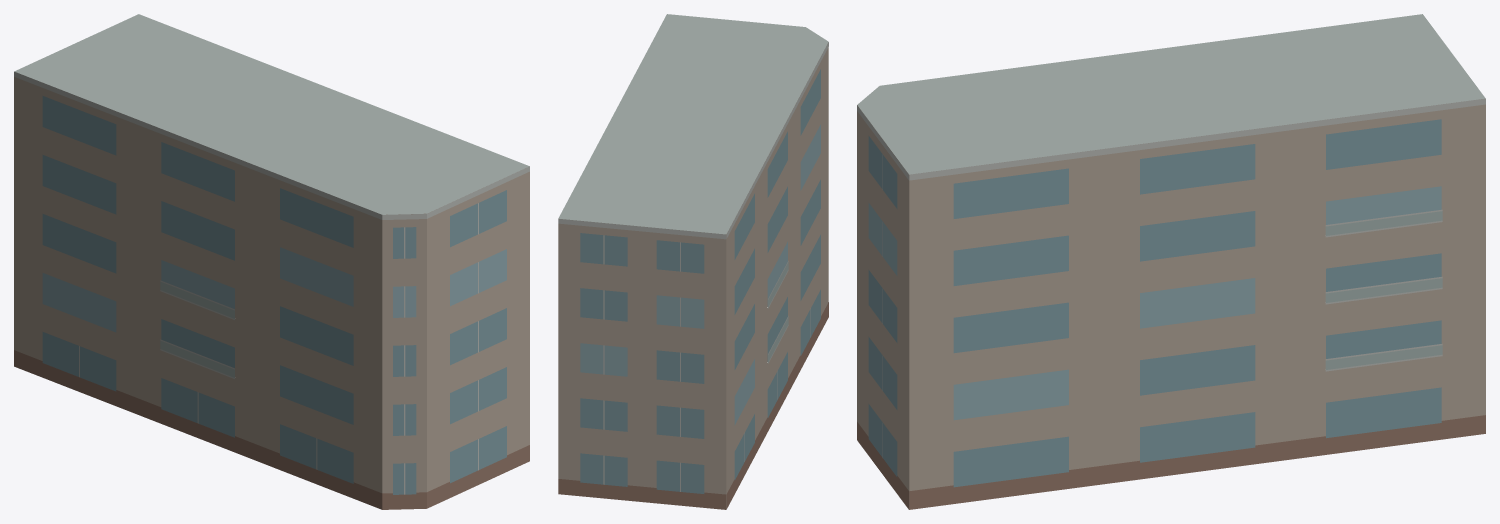
The model's file is survey-upis-32621974.glb.
3 renders of one model, left to right at view 1: azimuth 30°, elevation 25°; view 2: azimuth 150°, elevation 25°; view 3: azimuth 270°, elevation 25°, orthographic. The views are drawn at different scales.
Parts seen in each view (by area): view 1: survey-upis-32621974.tmp; view 2: survey-upis-32621974.tmp; view 3: survey-upis-32621974.tmp.
Boxes of the visible parts, box(x1,y1,x2,y2) form: survey-upis-32621974.tmp: box(14, 14, 529, 509); survey-upis-32621974.tmp: box(558, 14, 828, 509); survey-upis-32621974.tmp: box(857, 14, 1485, 509).
Bounding box in the file's own units: 14.14 × 13.75 × 23.38.
